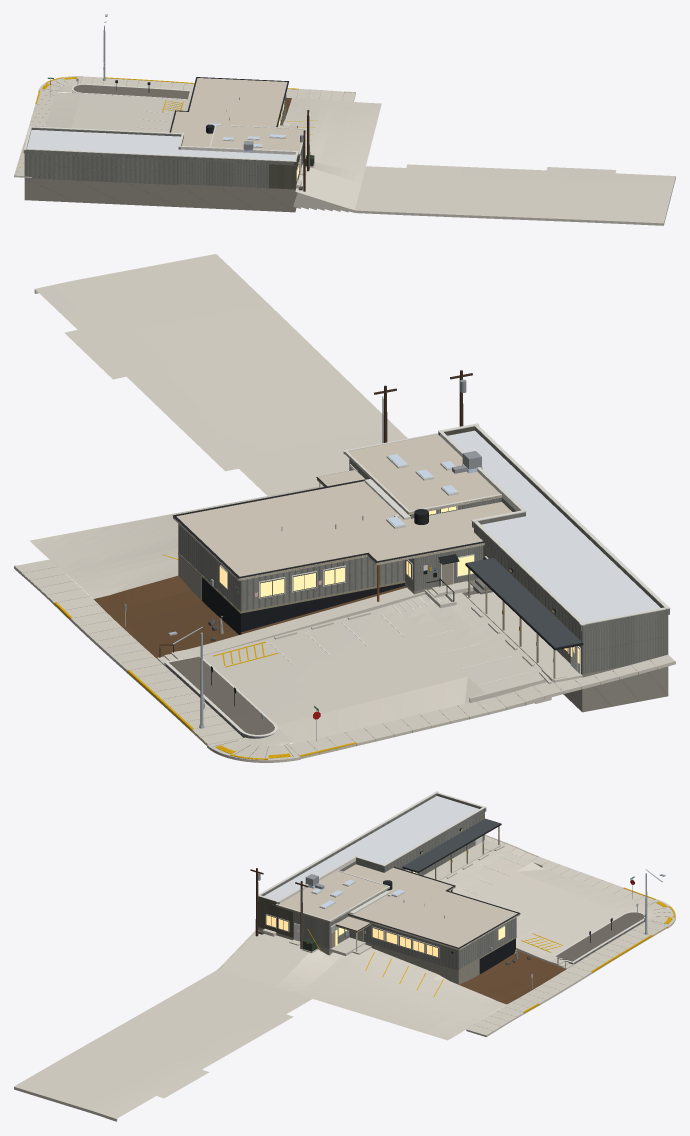
File: building-411-412.glb
3 renders of one model, top to bottom at view 1: azimuth 30°, elevation 25°; view 2: azimuth 150°, elevation 25°; view 3: azimuth 270°, elevation 25°, orthographic. The views are drawn at different scales.
Visible parts, largest first — view 1: node_57, node_1, node_3, node_0, node_17, node_60, node_58, node_5, node_55, node_2, node_6, node_54 (+2 smaller); view 2: node_57, node_3, node_1, node_60, node_17, node_20, node_59, node_0, node_5, node_12, node_19, node_55 (+8 smaller); view 3: node_57, node_3, node_1, node_60, node_17, node_59, node_20, node_5, node_0, node_19, node_55, node_58 (+6 smaller).
Part boxes in pixels (bbox=[...]): node_57: bbox=[45, 85, 674, 222]; node_1: bbox=[23, 94, 303, 188]; node_3: bbox=[171, 78, 304, 154]; node_0: bbox=[24, 104, 303, 212]; node_17: bbox=[27, 130, 295, 160]; node_60: bbox=[14, 76, 355, 177]; node_58: bbox=[293, 91, 675, 225]; node_5: bbox=[23, 124, 306, 161]; node_55: bbox=[73, 85, 189, 99]; node_2: bbox=[269, 154, 299, 189]; node_6: bbox=[180, 123, 300, 173]; node_54: bbox=[71, 84, 191, 99]; node_57: bbox=[30, 254, 547, 745]; node_3: bbox=[173, 434, 512, 580]; node_1: bbox=[178, 427, 669, 673]; node_60: bbox=[14, 559, 675, 758]; node_17: bbox=[447, 430, 660, 622]; node_20: bbox=[157, 581, 582, 684]; node_59: bbox=[93, 575, 406, 658]; node_0: bbox=[178, 555, 668, 712]; node_5: bbox=[343, 423, 670, 625]; node_12: bbox=[159, 561, 555, 706]; node_19: bbox=[466, 558, 582, 647]; node_55: bbox=[169, 657, 274, 734]; node_57: bbox=[15, 849, 651, 1118]; node_3: bbox=[279, 864, 520, 950]; node_1: bbox=[258, 793, 516, 970]; node_60: bbox=[466, 835, 666, 1037]; node_17: bbox=[264, 796, 478, 904]; node_59: bbox=[459, 948, 565, 1004]; node_20: bbox=[262, 839, 574, 969]; node_5: bbox=[258, 791, 486, 921]; node_0: bbox=[258, 839, 484, 984]; node_19: bbox=[402, 818, 500, 871]; node_55: bbox=[556, 912, 644, 961]; node_58: bbox=[14, 849, 591, 1121].
Size of the model in its own units: 78.61 by 12.02 by 78.46.
46 materials, 14 textured.
